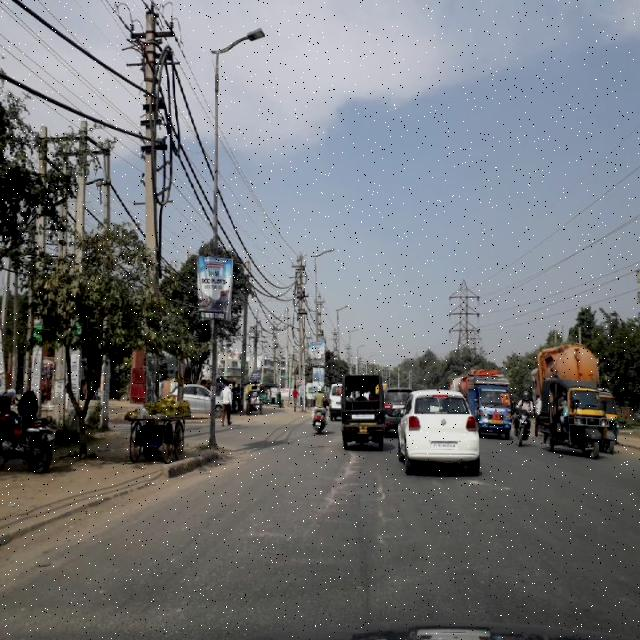D00: (318, 452, 355, 518), (363, 479, 399, 544)
